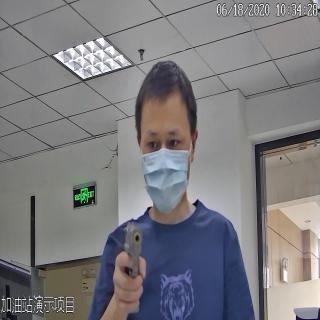gun: (113, 219, 152, 316)
